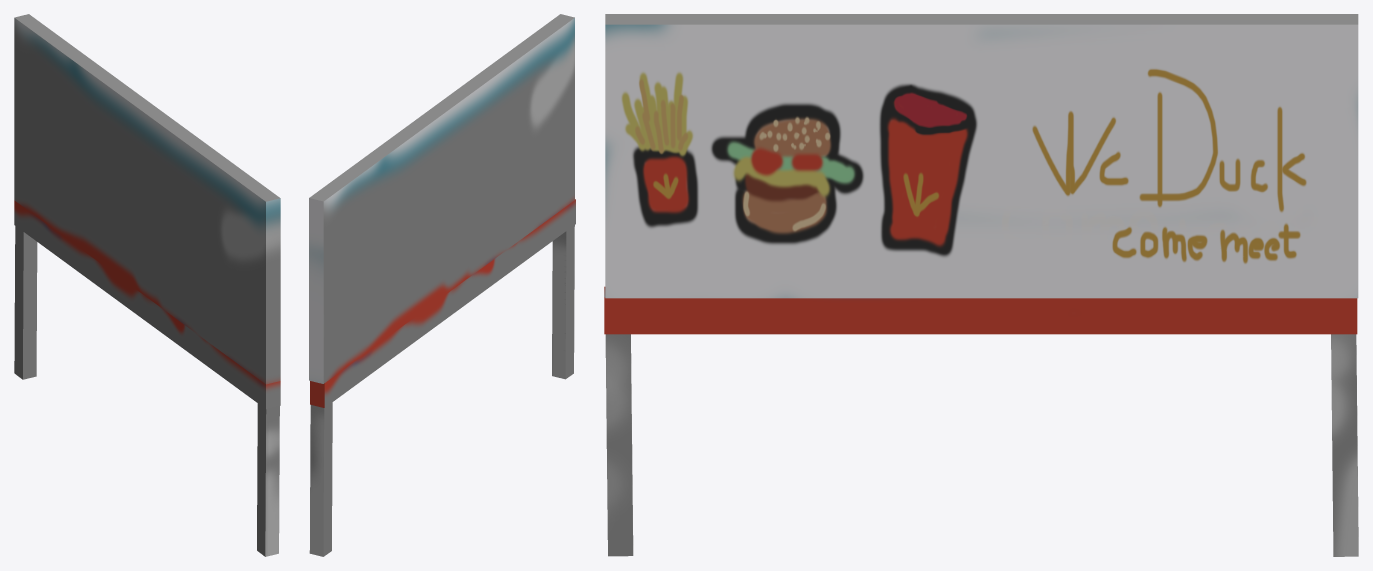
The model's file is outdoor texturaduckfood.fbx.
3 renders of one model, left to right at view 1: azimuth 30°, elevation 25°; view 2: azimuth 150°, elevation 25°; view 3: azimuth 270°, elevation 25°, orthographic. The views are drawn at different scales.
Visible parts, largest first — view 1: Cube.002; view 2: Cube.002; view 3: Cube.002.
Part boxes in pixels (x1,y1,x2,y2): Cube.002: (14,14,280,556); Cube.002: (309,14,575,556); Cube.002: (604,14,1358,556).
Size of the model in its own units: 34.01 by 773 by 992.
